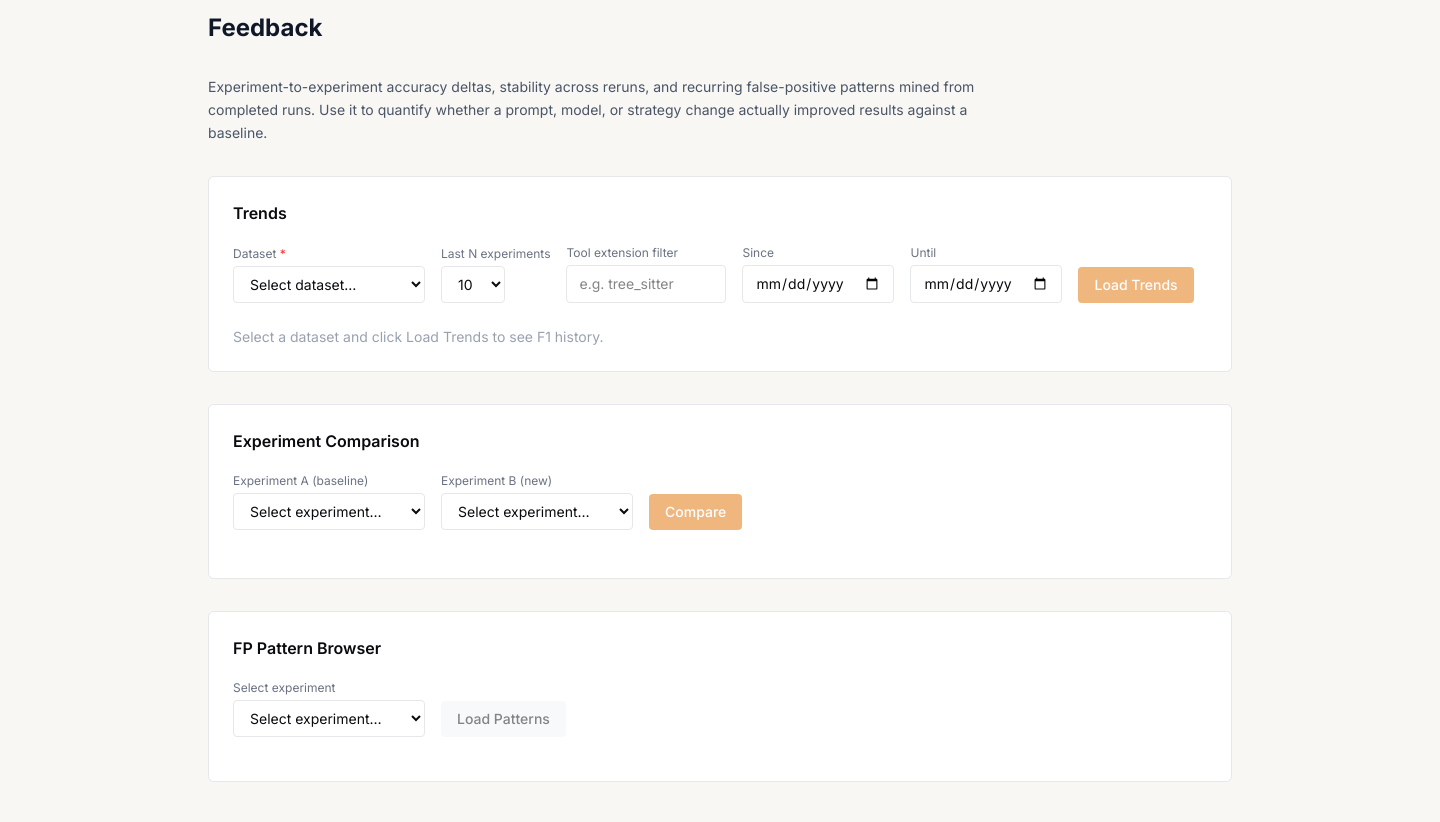
Test: Feedback — Trends section › shows error message when getTrends fails
Select "ds-test" in the 1st dropdown: x=329, y=285 [233, 266, 425, 303]
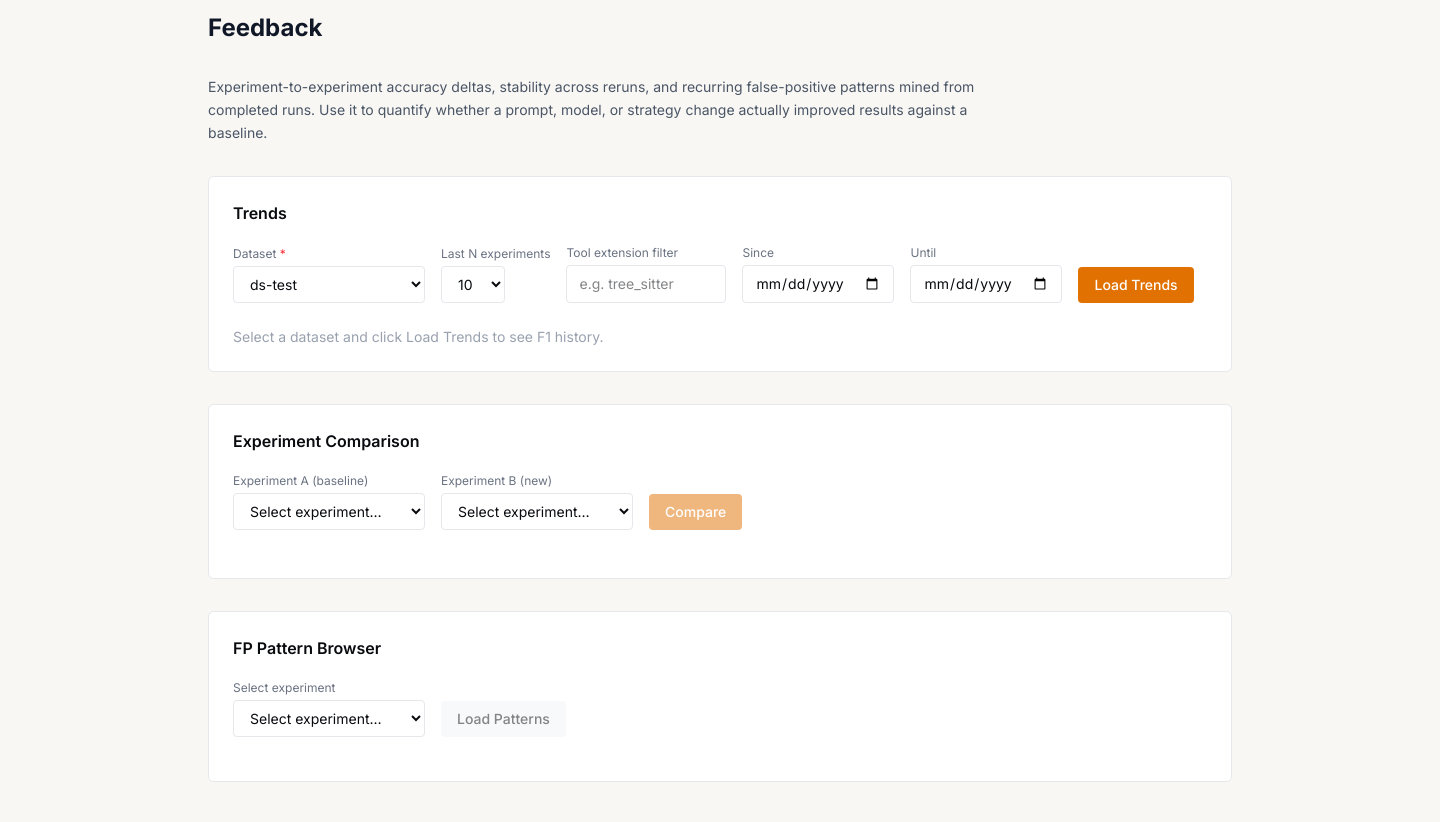
Click the button "Load Trends": x=1136, y=285 [1078, 267, 1194, 303]
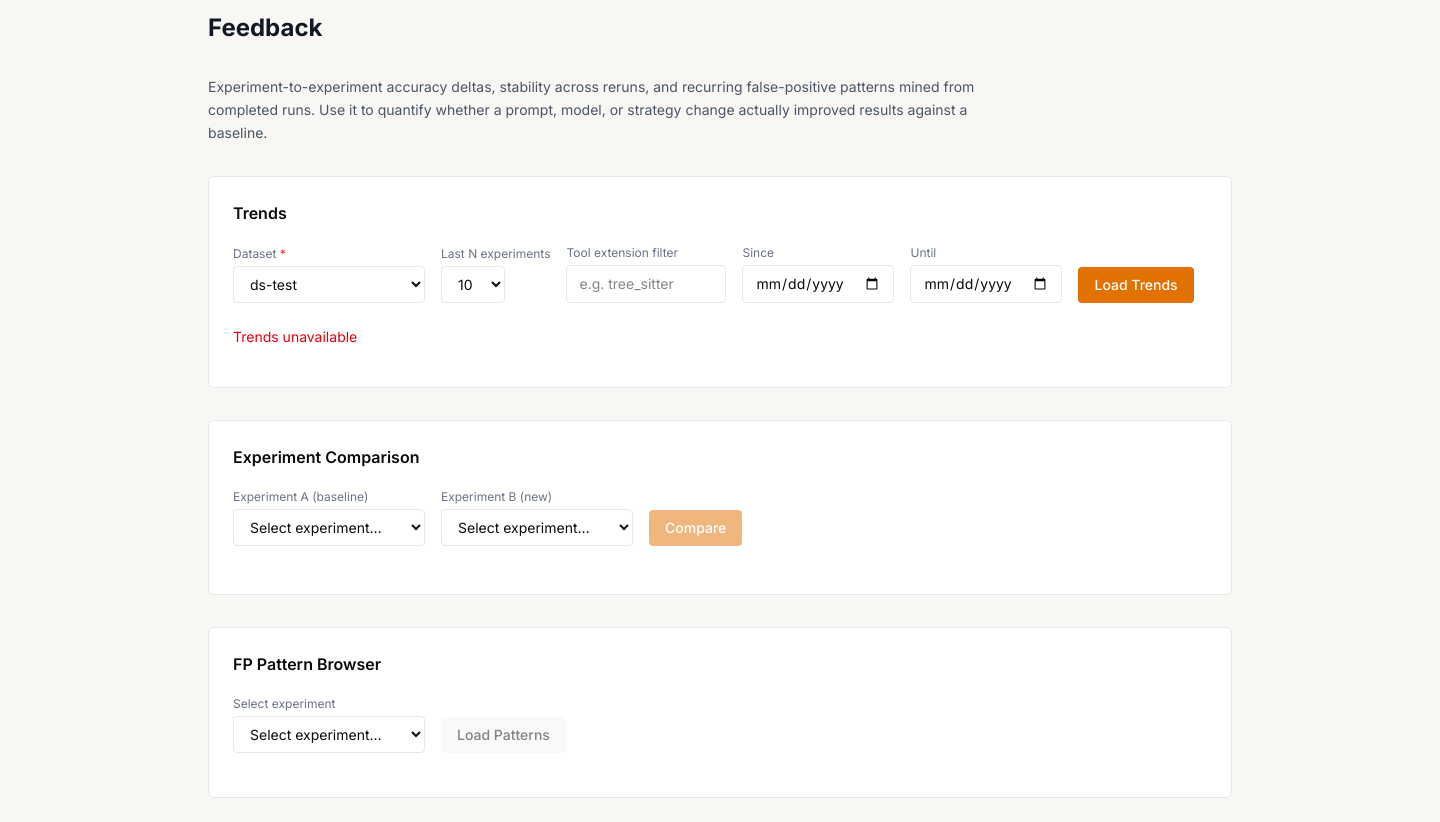
Result: the text "Trends unavailable" is shown at [233, 328, 357, 345]
